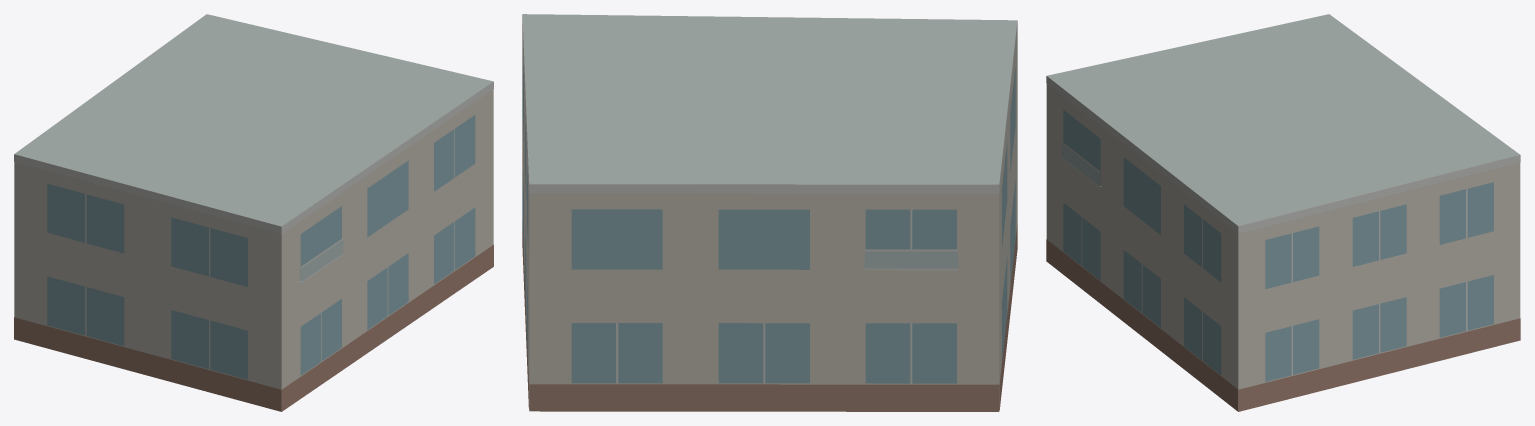
File: survey-upis-32656033.glb
3 views of the same model, side by side, from view 1: azimuth 30°, elevation 25°; view 2: azimuth 150°, elevation 25°; view 3: azimuth 270°, elevation 25° (orthographic). The views are drawn at different scales.
Visible parts, largest first — view 1: survey-upis-32656033.tmp; view 2: survey-upis-32656033.tmp; view 3: survey-upis-32656033.tmp.
Boxes of the visible parts, x1,y1,x2,y2 form: survey-upis-32656033.tmp: (14,14,493,411); survey-upis-32656033.tmp: (522,14,1017,411); survey-upis-32656033.tmp: (1046,14,1520,411).
Bounding box in the file's own units: 14.97 × 6.1 × 14.13.
